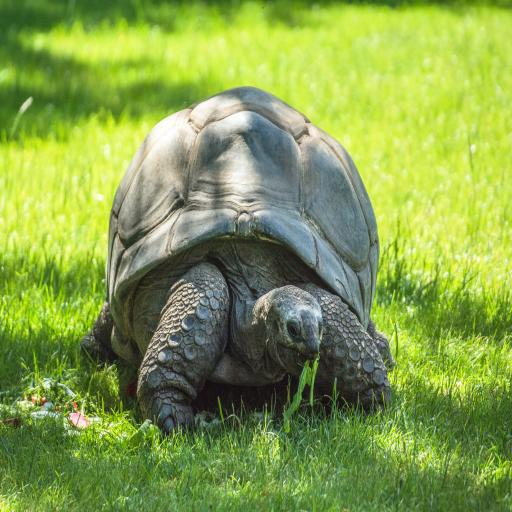turtles: (82, 87, 394, 432)
